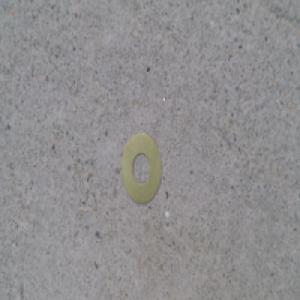Washer: (119, 131, 162, 201)
